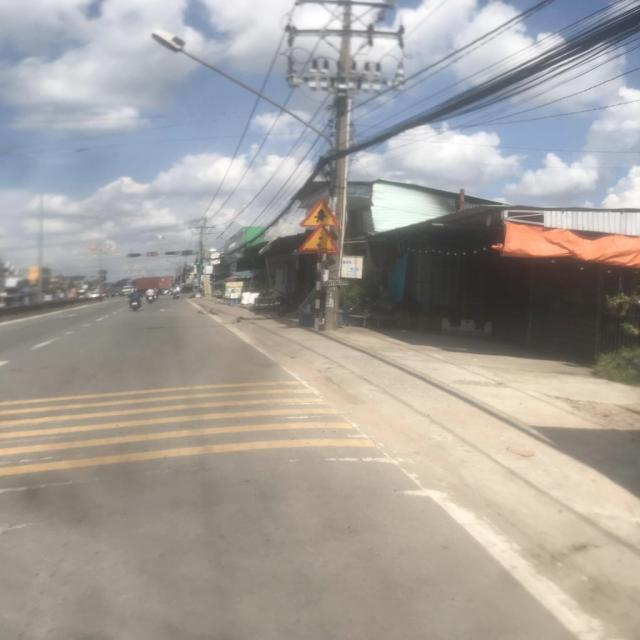giao_nhau_co_tin_hieu_den: (297, 226, 340, 253)
giao_nhau_voi_duong_khong_uu_tien: (298, 197, 343, 229)
